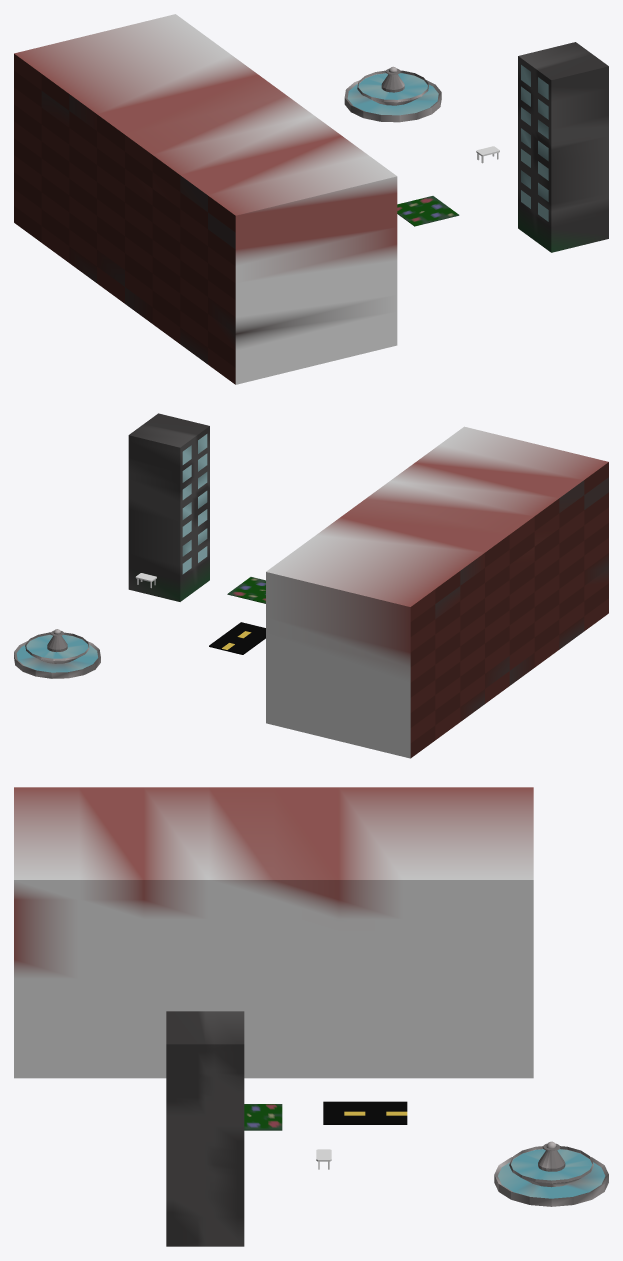
The model's file is bleh.fbx.
The picture shows the model from 3 angles, top to bottom: view 1: azimuth 30°, elevation 25°; view 2: azimuth 150°, elevation 25°; view 3: azimuth 270°, elevation 25°; orthographic projection. The views are drawn at different scales.
Parts seen in each view (by area): view 1: Cube.005, Cube, Cylinder, Cube.001; view 2: Cube.005, Cube, Cylinder, Cube.003, Cube.001; view 3: Cube.005, Cube, Cylinder, Cube.003, Cube.001.
Boxes of the visible parts, x1,y1,x2,y2 form: Cube.005: (14,14,397,384); Cube: (518,42,608,252); Cylinder: (344,66,441,122); Cube.001: (397,196,459,226); Cube.005: (266,426,608,758); Cube: (128,413,209,601); Cylinder: (14,629,100,678); Cube.003: (209,622,265,654); Cube.001: (227,577,265,603); Cube.005: (14,787,533,1078); Cube: (166,1011,244,1246); Cylinder: (494,1141,608,1206); Cube.003: (323,1101,407,1124); Cube.001: (244,1104,282,1130).
Bounding box in the file's own units: 11862 × 4594 × 11896.
